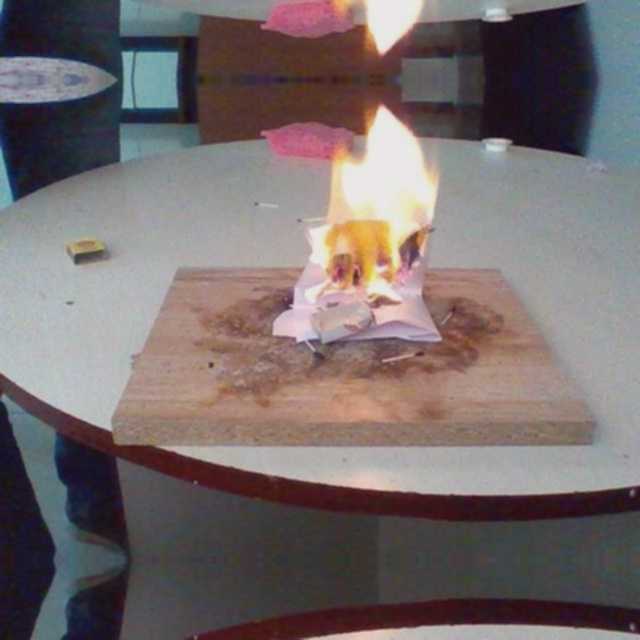fire: (258, 86, 463, 345)
